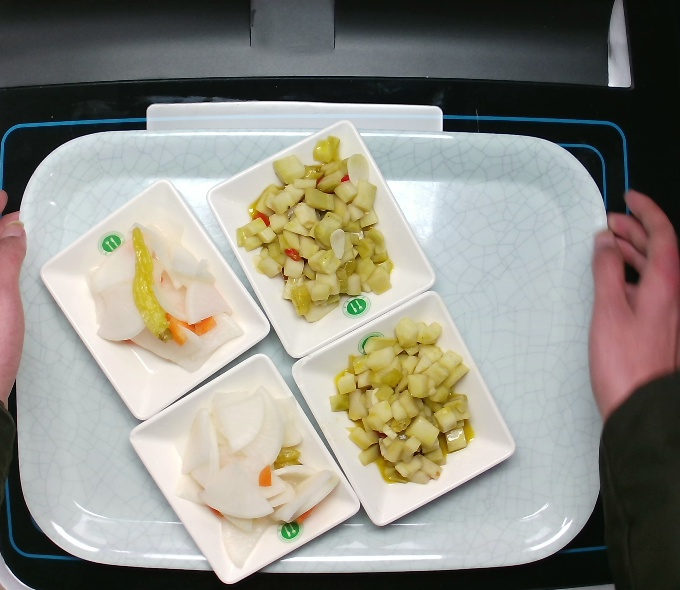wcq-LuLuoBo: (180, 383, 353, 574), (86, 219, 246, 378)
wcq-TangCuOu: (232, 139, 394, 322), (331, 319, 476, 484)
